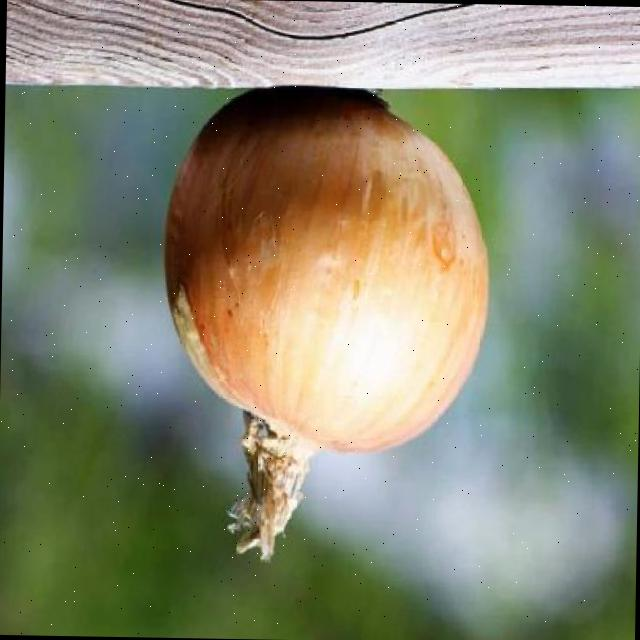Onion: (162, 86, 486, 559)
